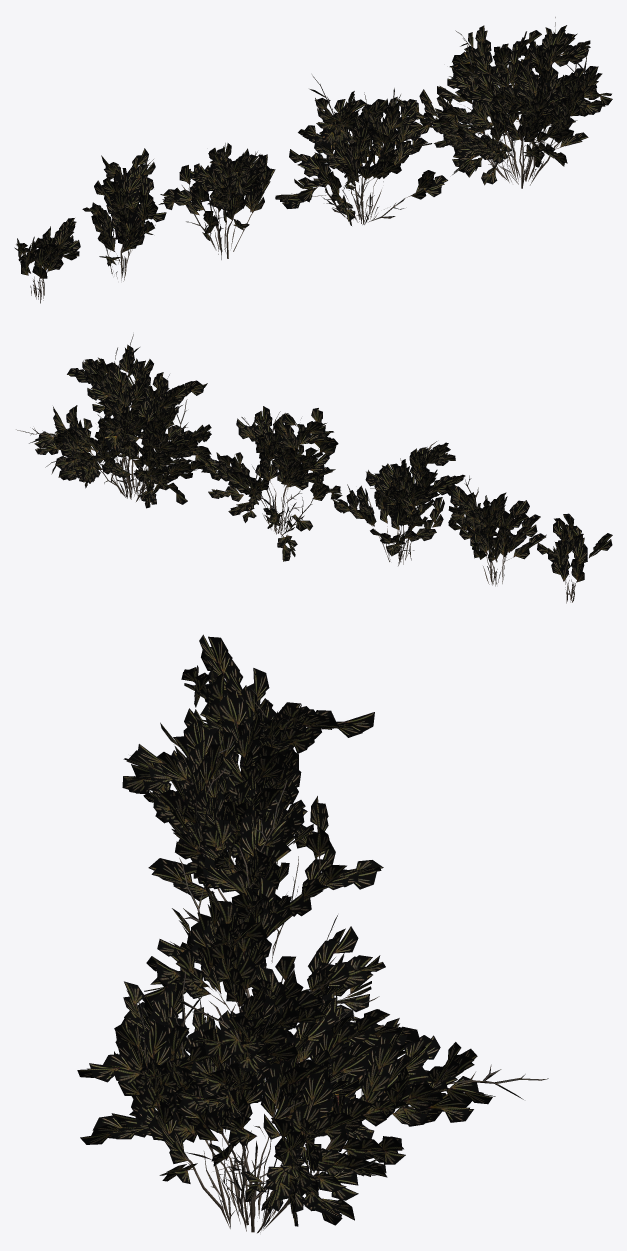
File: wild_rooibos_bush.glb
The picture shows the model from 3 angles, top to bottom: view 1: azimuth 30°, elevation 25°; view 2: azimuth 150°, elevation 25°; view 3: azimuth 270°, elevation 25°; orthographic projection. The views are drawn at different scales.
Visible parts, largest first — view 1: wild_rooibos_bush_a, wild_rooibos_bush_b, wild_rooibos_bush_c, wild_rooibos_bush_d, wild_rooibos_bush_e; view 2: wild_rooibos_bush_a, wild_rooibos_bush_b, wild_rooibos_bush_c, wild_rooibos_bush_d, wild_rooibos_bush_e; view 3: wild_rooibos_bush_a, wild_rooibos_bush_b, wild_rooibos_bush_c, wild_rooibos_bush_d, wild_rooibos_bush_e.
Boxes of the visible parts, x1,y1,x2,y2 form: wild_rooibos_bush_a: (397, 17, 612, 188); wild_rooibos_bush_b: (275, 75, 447, 225); wild_rooibos_bush_c: (158, 143, 275, 259); wild_rooibos_bush_d: (82, 148, 166, 281); wild_rooibos_bush_e: (14, 218, 80, 303); wild_rooibos_bush_a: (16, 334, 219, 508); wild_rooibos_bush_b: (201, 406, 342, 561); wild_rooibos_bush_c: (332, 441, 465, 565); wild_rooibos_bush_d: (445, 475, 546, 586); wild_rooibos_bush_e: (537, 513, 612, 603); wild_rooibos_bush_a: (77, 963, 548, 1233); wild_rooibos_bush_b: (138, 779, 385, 1080); wild_rooibos_bush_c: (122, 718, 383, 962); wild_rooibos_bush_d: (160, 668, 374, 863); wild_rooibos_bush_e: (181, 634, 272, 754).
Bounding box in the file's own units: 2.27 × 0.5405 × 0.8432.
Materials: 2 (2 with a texture image).
